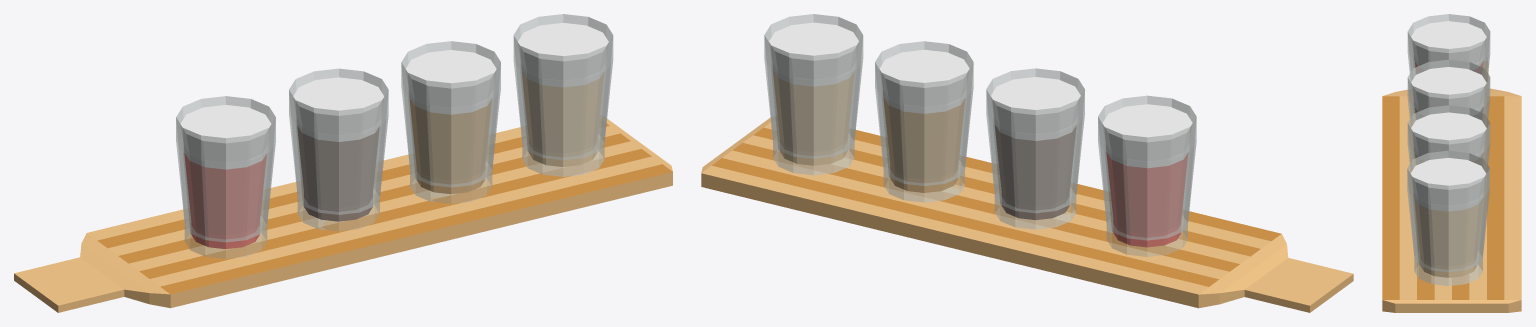
Rendered from Beer Flight by Bruno Oliveira - bK5lwl7gvA7.glb.
3 renders of one model, left to right at view 1: azimuth 30°, elevation 25°; view 2: azimuth 150°, elevation 25°; view 3: azimuth 270°, elevation 25°, orthographic. The views are drawn at different scales.
Parts seen in each view (by area): view 1: Node; view 2: Node; view 3: Node.
Part boxes in pixels (bbox=[...]): Node: bbox=[14, 14, 672, 312]; Node: bbox=[701, 14, 1353, 312]; Node: bbox=[1382, 14, 1521, 312].
Bounding box in the file's own units: 0.91 × 0.2 × 0.22.
